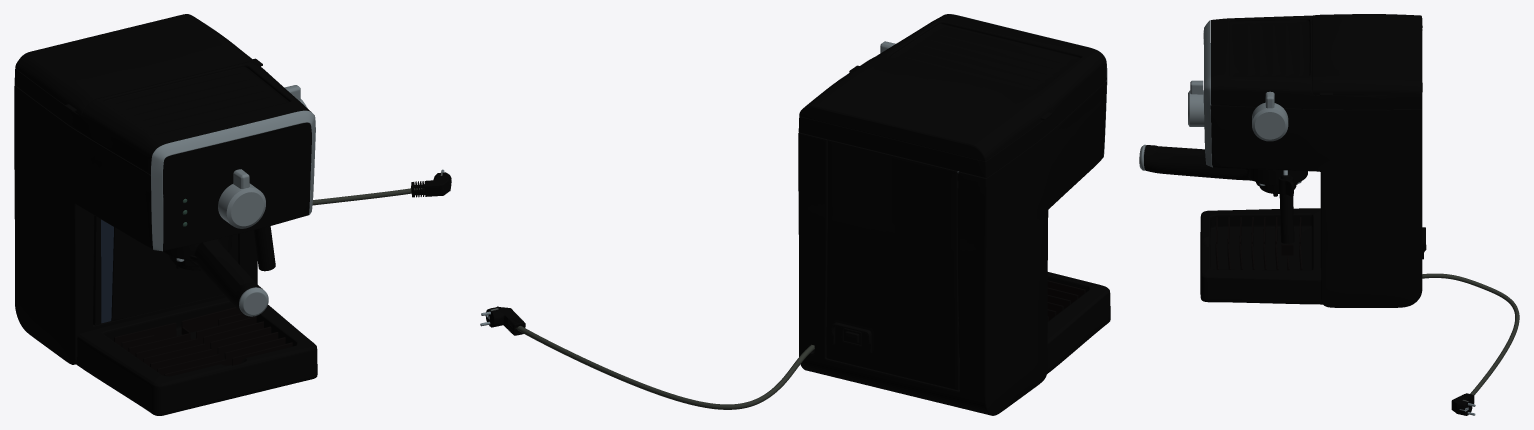
3 views of the same model, side by side, from view 1: azimuth 30°, elevation 25°; view 2: azimuth 150°, elevation 25°; view 3: azimuth 270°, elevation 25° (orthographic). The views are drawn at different scales.
Parts seen in each view (by area): view 1: Object_9, Object_29, Object_17, Object_19, Object_45, Object_4, Object_35, Object_51, Object_54, Object_5, Object_37; view 2: Object_9, Object_29, Object_17, Object_37, Object_19, Object_54; view 3: Object_9, Object_17, Object_4, Object_49, Object_19, Object_45, Object_37, Object_29, Object_35, Object_54.
Boxes of the visible parts, x1,y1,x2,y2 form: Object_9: (14, 14, 424, 364); Object_29: (163, 122, 311, 271); Object_17: (76, 297, 317, 415); Object_19: (114, 307, 292, 376); Object_45: (151, 110, 315, 251); Object_4: (163, 235, 262, 310); Object_35: (218, 169, 265, 228); Object_51: (101, 172, 442, 323); Object_54: (411, 172, 451, 197); Object_5: (239, 287, 268, 316); Object_37: (182, 188, 422, 226); Object_9: (515, 14, 1106, 415); Object_29: (826, 139, 959, 389); Object_17: (958, 272, 1110, 373); Object_37: (515, 326, 814, 409); Object_19: (1047, 280, 1085, 321); Object_54: (485, 306, 525, 335); Object_9: (1211, 14, 1422, 307); Object_17: (1200, 208, 1322, 304); Object_4: (1144, 145, 1307, 196); Object_49: (1252, 91, 1288, 141); Object_19: (1215, 217, 1302, 270); Object_45: (1203, 20, 1212, 167); Object_37: (1422, 273, 1519, 395); Object_29: (1203, 33, 1426, 259); Object_35: (1188, 80, 1204, 126); Object_54: (1451, 393, 1474, 415).
Bounding box in the file's own units: 0.49 × 0.2719 × 0.4168.
18 materials, 4 textured.
